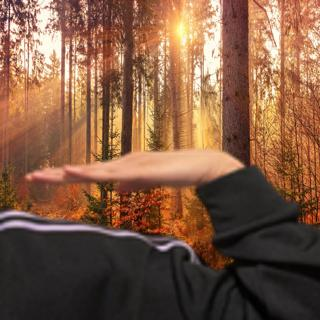Wait: (20, 138, 240, 195)
